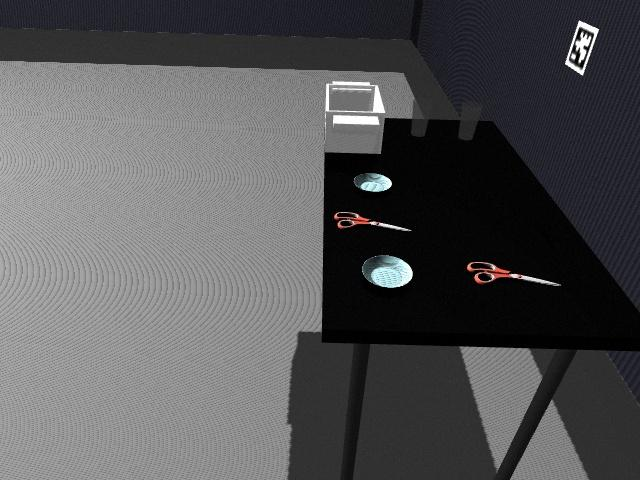cup: (458, 101, 482, 142), (409, 101, 429, 138)
plate: (362, 254, 415, 288), (352, 173, 394, 193)
scissors: (467, 260, 560, 288), (335, 210, 412, 234)
